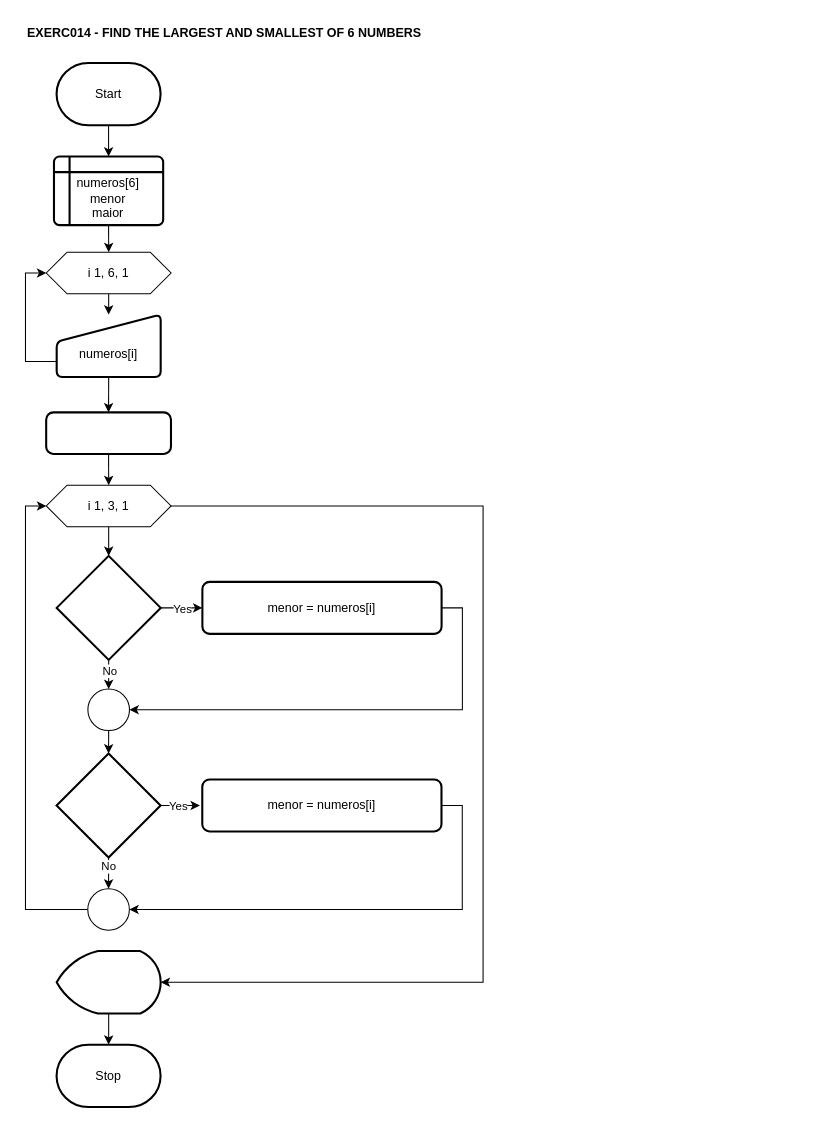
Some shapes in this 834 by 1125 pixel diagram are drawn without their labels. The centre of each missing label's shape, as x and y in pixels:
"menor = numeros[1] maior = menor" belongs at (x=108, y=432).
"menor maior" belongs at (x=108, y=982).
"numeros[i] < menor" belongs at (x=108, y=607).
"numeros[i] > maior" belongs at (x=108, y=805).
